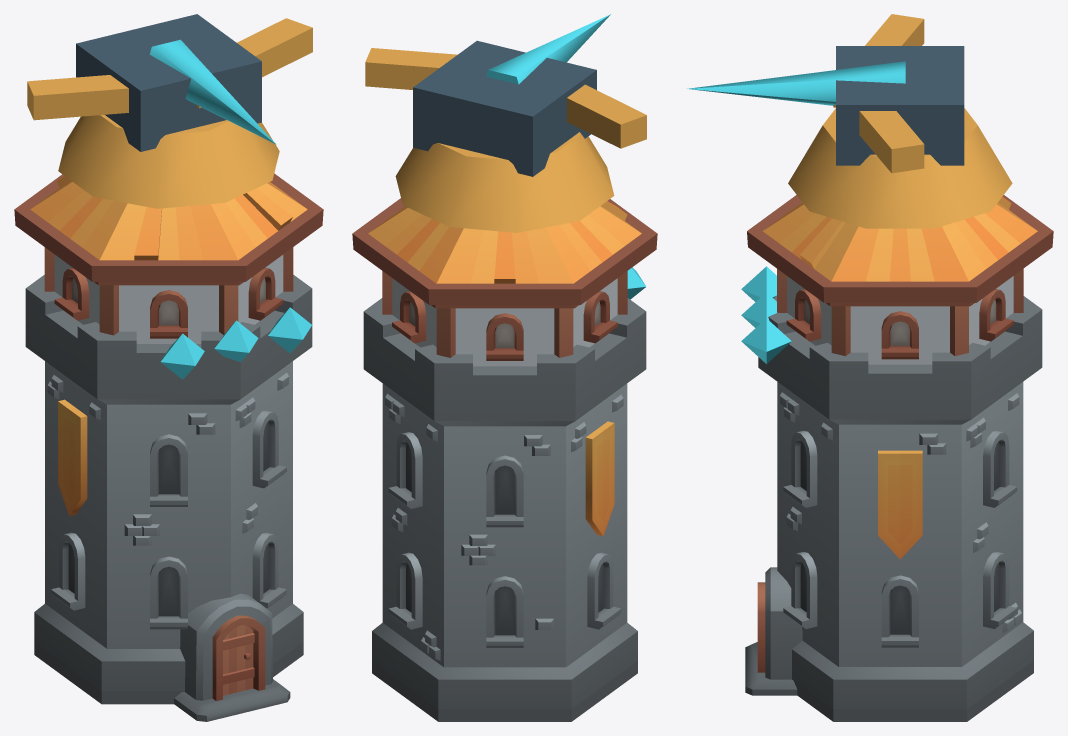
Rendered from tower_lightning_l3.glb.
The picture shows the model from 3 angles, left to right: view 1: azimuth 30°, elevation 25°; view 2: azimuth 150°, elevation 25°; view 3: azimuth 270°, elevation 25°; orthographic projection.
Visible parts, largest first — view 1: Base, building_tower_A_top_yellow, BarrelAssembly, Turret; view 2: Base, building_tower_A_top_yellow, BarrelAssembly, Turret; view 3: Base, building_tower_A_top_yellow, BarrelAssembly, Turret.
Boxes of the visible parts, x1,y1,x2,y2 form: Base: (25,275,312,721); building_tower_A_top_yellow: (14,173,323,343); BarrelAssembly: (27,14,312,151); Turret: (58,115,279,208); Base: (363,267,646,721); building_tower_A_top_yellow: (352,198,657,366); BarrelAssembly: (365,14,646,176); Turret: (395,132,614,232); Base: (741,266,1042,721); building_tower_A_top_yellow: (747,195,1053,364); BarrelAssembly: (687,14,964,173); Turret: (788,108,1012,228).
Size of the model in its own units: 1.2 by 2.49 by 1.37.
Materials: 4 (1 with a texture image).
